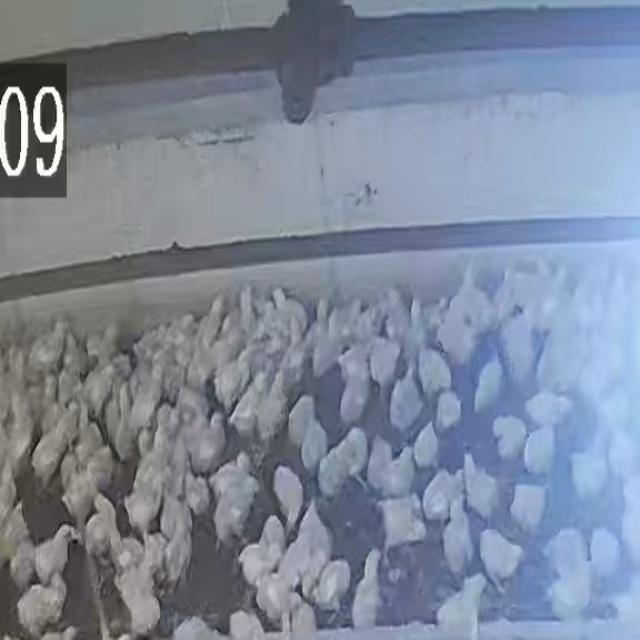chicken: (477, 527, 525, 590), (436, 576, 487, 625), (464, 455, 498, 519), (356, 546, 381, 629), (446, 498, 474, 569), (273, 468, 301, 534), (422, 474, 461, 518), (512, 483, 547, 529)
